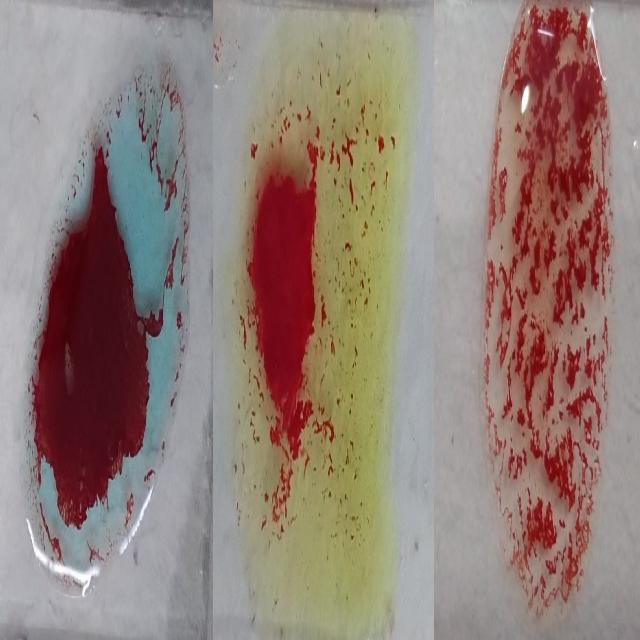A: (22, 55, 184, 597)
B: (235, 31, 395, 602), (483, 2, 610, 625)
